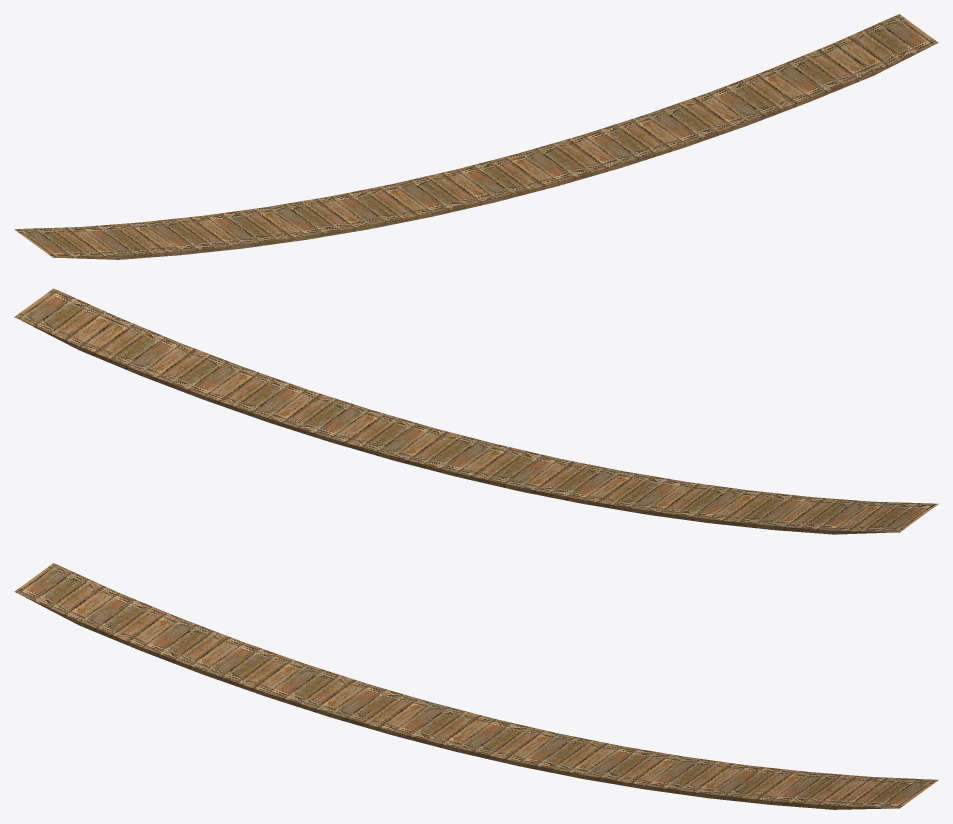
Rendered from Mission8_RopeBridge.glb.
3 renders of one model, top to bottom at view 1: azimuth 30°, elevation 25°; view 2: azimuth 150°, elevation 25°; view 3: azimuth 330°, elevation 25°, orthographic.
Visible parts, largest first — view 1: MISSION8_ROPEBRIDGE; view 2: MISSION8_ROPEBRIDGE; view 3: MISSION8_ROPEBRIDGE.
Part boxes in pixels (<box>): MISSION8_ROPEBRIDGE: <box>14,14,938,259</box>; MISSION8_ROPEBRIDGE: <box>14,288,938,534</box>; MISSION8_ROPEBRIDGE: <box>14,563,938,809</box>.
Bounding box in the file's own units: 28.3 × 1.59 × 2.2.
Materials: 2 (2 with a texture image).
